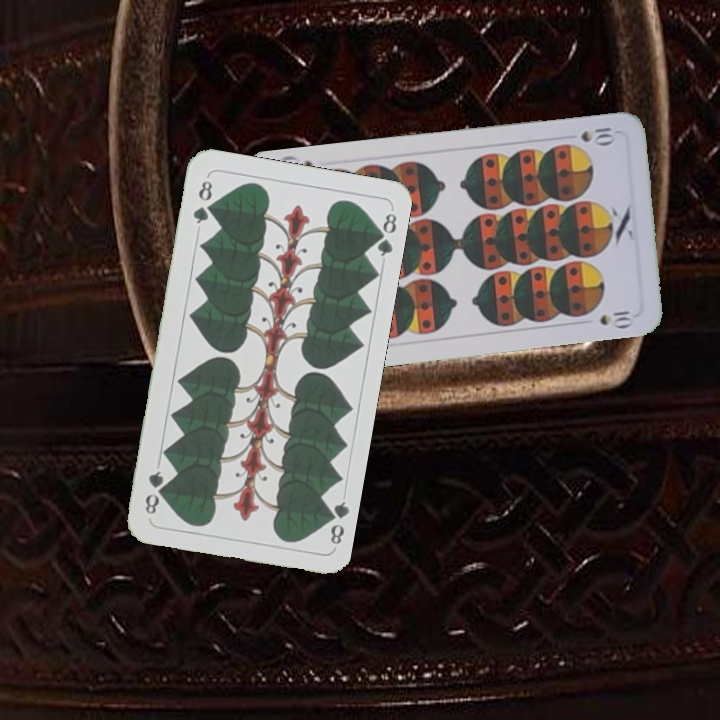G8: (320, 497, 351, 547), (188, 176, 215, 227)
S10: (577, 123, 619, 147)
